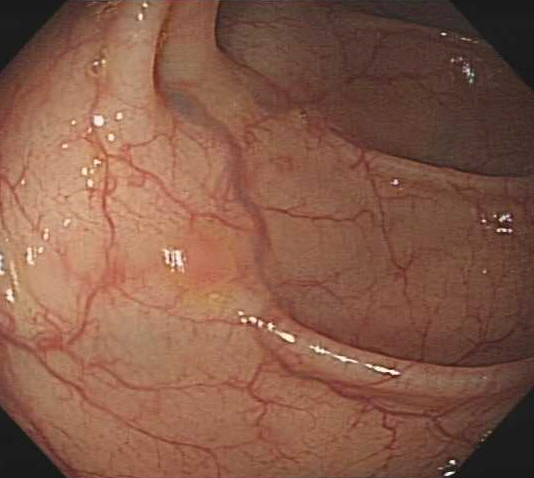others: (158, 228, 237, 295)
